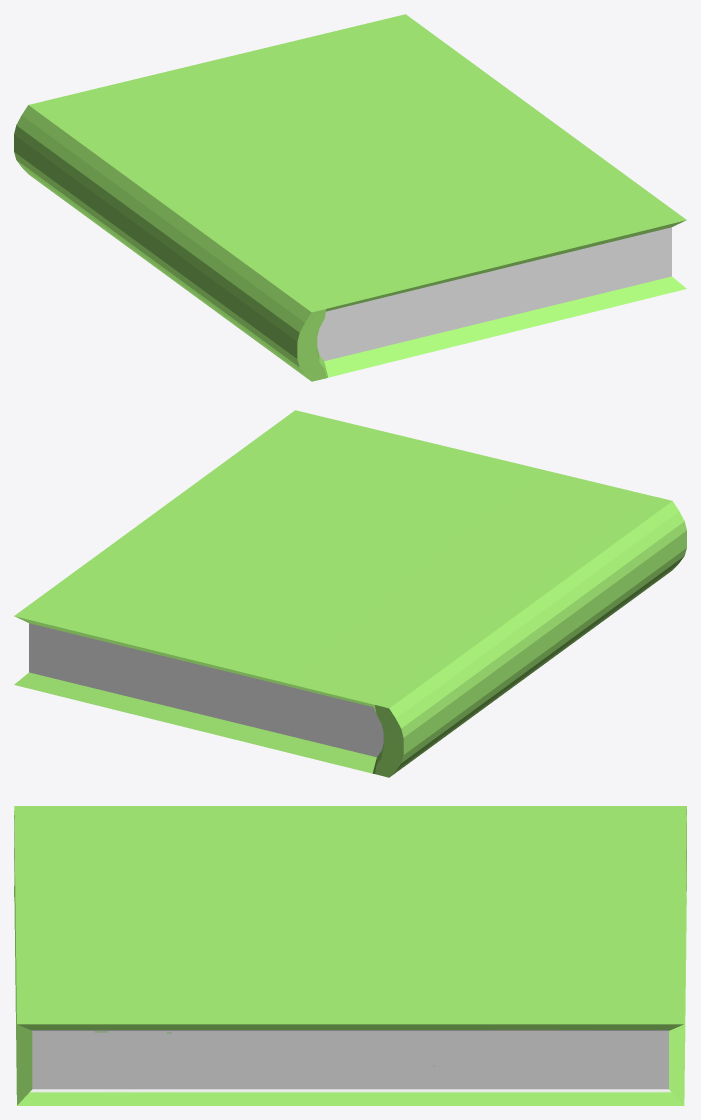
File: book.fbx
3 renders of one model, top to bottom at view 1: azimuth 30°, elevation 25°; view 2: azimuth 150°, elevation 25°; view 3: azimuth 270°, elevation 25°, orthographic. The views are drawn at different scales.
Visible parts, largest first — view 1: 平面.019; view 2: 平面.019; view 3: 平面.019.
Part boxes in pixels (x1,y1,x2,y2): 平面.019: (14,14,686,381); 平面.019: (14,410,686,777); 平面.019: (14,806,686,1105).
Bounding box in the file's own units: 65.78 × 11.16 × 82.73.
